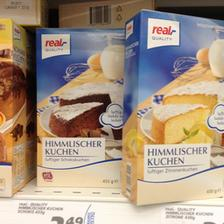Kuchen: (123, 9, 223, 208), (34, 25, 122, 189)
